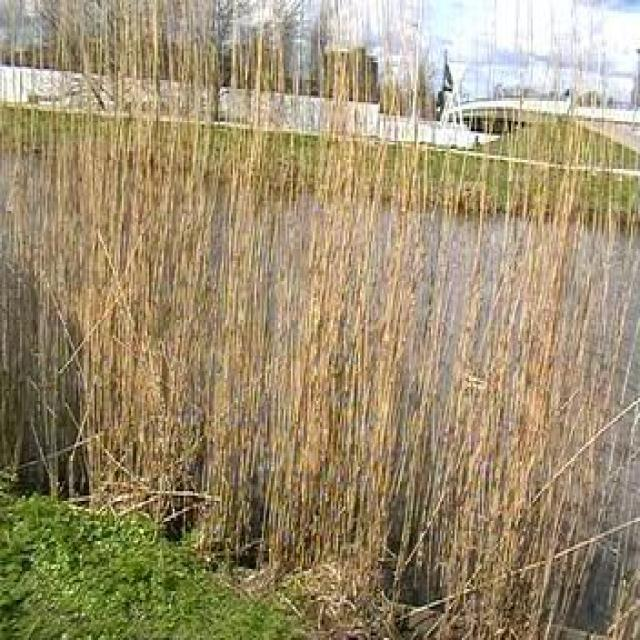other: (14, 62, 616, 540)
